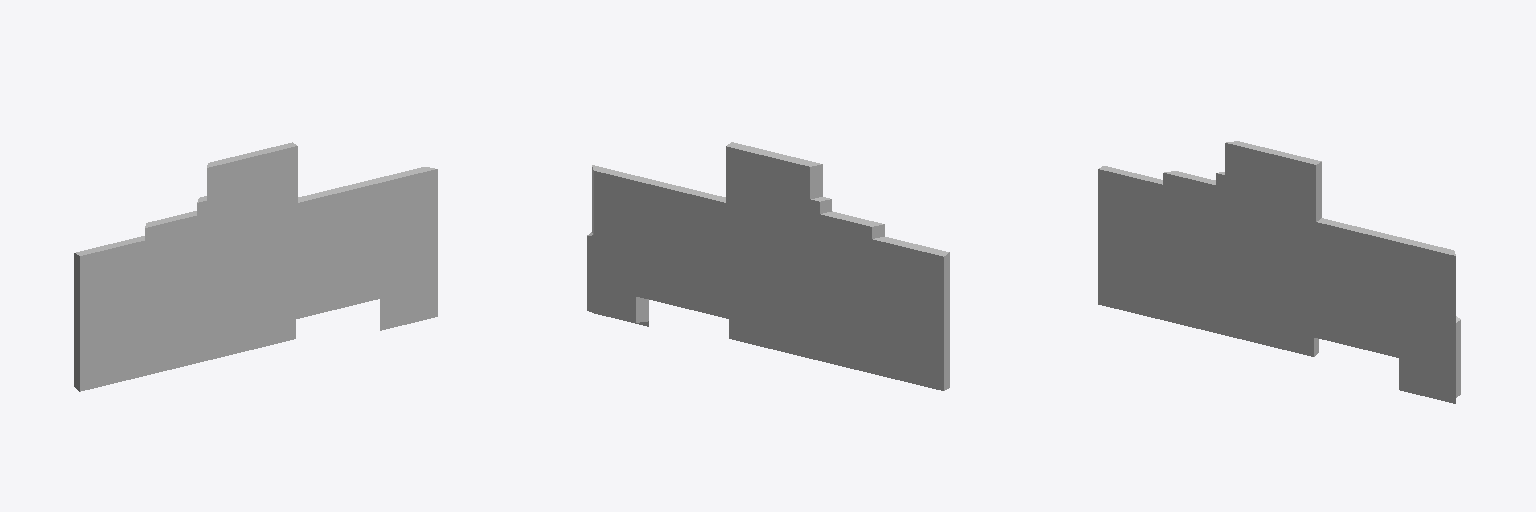
Rendered from stg110_drill_18.obj.
3 views of the same model, side by side, from view 1: azimuth 30°, elevation 25°; view 2: azimuth 150°, elevation 25°; view 3: azimuth 330°, elevation 25° (orthographic).
Parts seen in each view (by area): view 1: polygon0, polygon1; view 2: polygon1; view 3: polygon0, polygon1.
Boxes of the visible parts, x1,y1,x2,y2 form: polygon0: [80, 146, 437, 391]; polygon1: [74, 142, 434, 391]; polygon1: [587, 142, 949, 390]; polygon0: [1098, 143, 1455, 403]; polygon1: [1099, 141, 1460, 397].
Size of the model in its own units: 758 by 416 by 20.